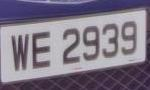2: (58, 23, 84, 67)
3: (101, 20, 121, 61)
9: (81, 22, 103, 64), (118, 17, 140, 57)
E: (31, 28, 55, 76)
W: (9, 30, 31, 78)
